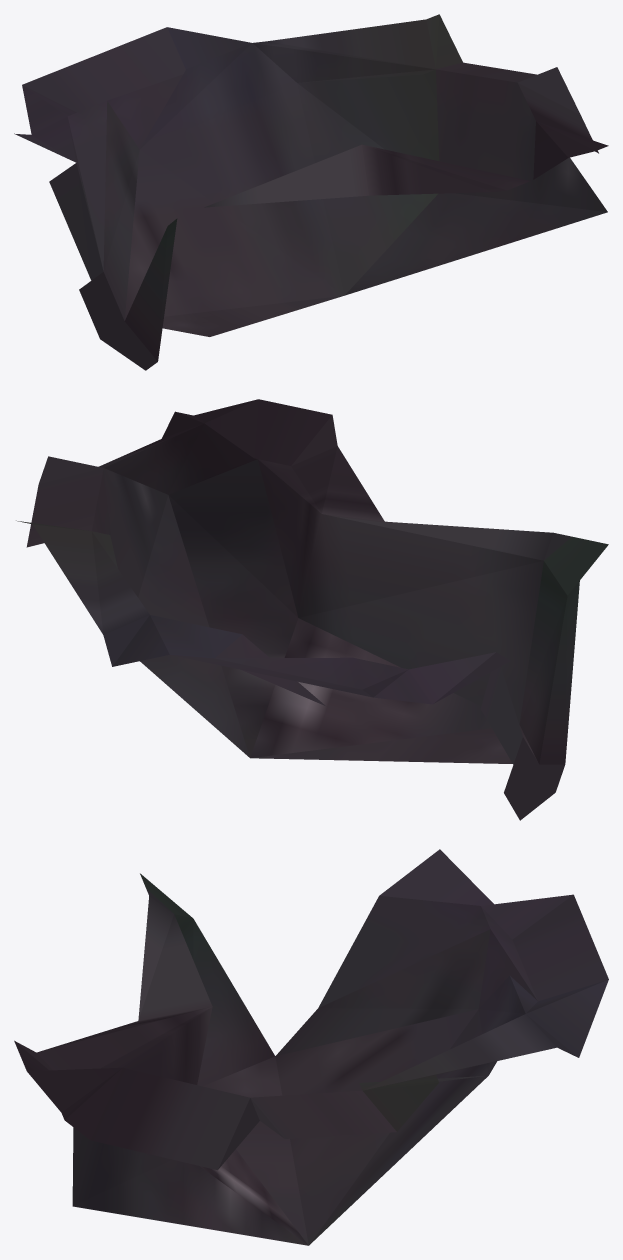
3 views of the same model, one above another, from view 1: azimuth 30°, elevation 25°; view 2: azimuth 150°, elevation 25°; view 3: azimuth 270°, elevation 25° (orthographic). The views are drawn at different scales.
Visible parts, largest first — view 1: Mesh_0; view 2: Mesh_0; view 3: Mesh_0.
Part boxes in pixels (left/top/right/bottom): Mesh_0: left=14, top=14, right=608, bottom=370; Mesh_0: left=16, top=399, right=608, bottom=820; Mesh_0: left=14, top=849, right=608, bottom=1245.
Bounding box in the file's own units: 5.06 × 2.09 × 4.49.
Materials: 1 (1 with a texture image).
